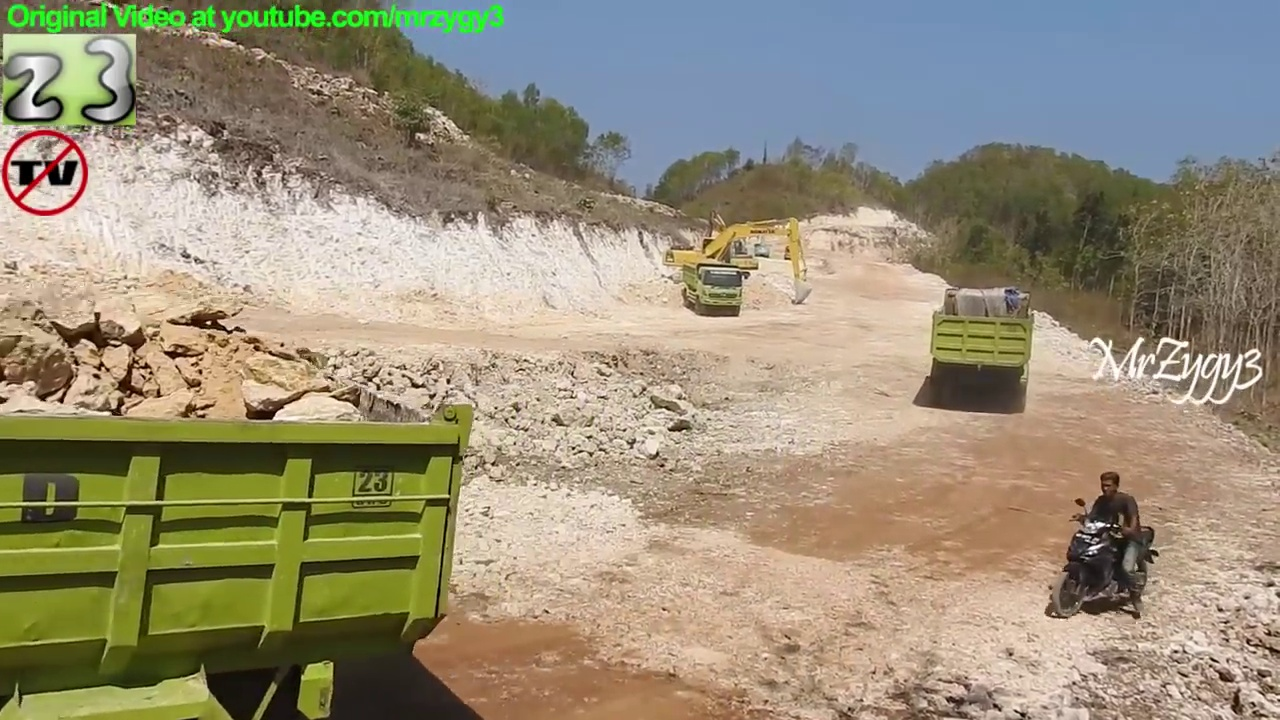excavator: (661, 213, 815, 309), (684, 213, 761, 283), (751, 228, 772, 261)
truck: (1, 343, 478, 720), (929, 282, 1036, 396), (681, 261, 753, 320)
